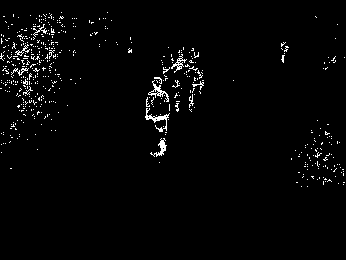person: (145, 74, 176, 158)
